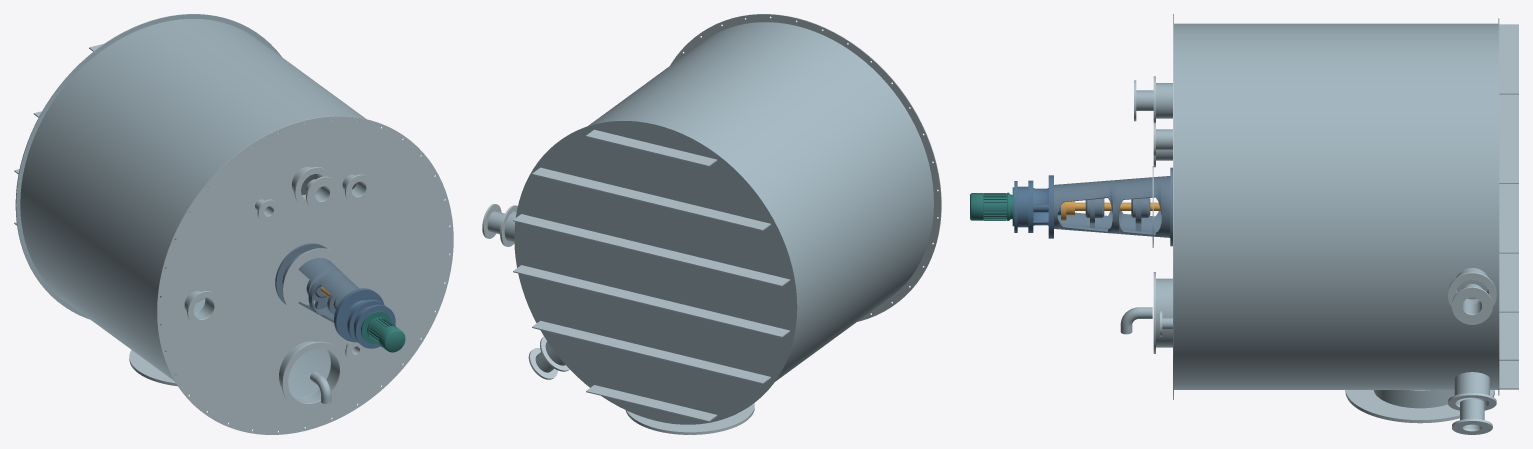
3 renders of one model, left to right at view 1: azimuth 30°, elevation 25°; view 2: azimuth 150°, elevation 25°; view 3: azimuth 270°, elevation 25°, orthographic. The views are drawn at different scales.
Visible parts, largest first — view 1: 盖面_开孔盖板, 本体_钢壳, 本体_底板, 搅拌_06_Tapered_window_frame_with_bored_seats, 盖面_h1盖, 接口_h1法兰, 搅拌_01_Motor, 搅拌_02_Base_flange_top, 接口_h1接管, 接口_a内接管法兰, 接口_h2法兰, 搅拌_06_Frame_foot (+4 smaller); view 2: 本体_底板, 本体_钢壳, 盖面_开孔盖板, 设备底型钢_4, 设备底型钢_3, 设备底型钢_5, 设备底型钢_2, 接口_h2法兰, 设备底型钢_1, 设备底型钢_6; view 3: 本体_钢壳, 搅拌_06_Tapered_window_frame_with_bored_seats, 接口_h2法兰, 设备底型钢_5, 设备底型钢_6, 设备底型钢_4, 接口_h2接管, 设备底型钢_3, 搅拌_01_Motor, 接口_b1法兰, 接口_h1接管, 设备底型钢_2 (+7 smaller).
Boxes of the visible parts, x1,y1,x2,y2 form: 盖面_开孔盖板: (156, 116, 453, 434); 本体_钢壳: (20, 19, 366, 397); 本体_底板: (15, 14, 281, 319); 搅拌_06_Tapered_window_frame_with_bored_seats: (282, 251, 358, 322); 盖面_h1盖: (282, 248, 345, 316); 接口_h1法兰: (281, 341, 345, 409); 搅拌_01_Motor: (361, 311, 405, 352); 搅拌_02_Base_flange_top: (335, 289, 384, 342); 接口_h1接管: (279, 341, 338, 403); 接口_a内接管法兰: (306, 176, 338, 210); 接口_h2法兰: (129, 350, 176, 385); 搅拌_06_Frame_foot: (275, 243, 327, 304); 本体_底板: (514, 120, 797, 424); 本体_钢壳: (588, 22, 933, 381); 盖面_开孔盖板: (670, 14, 941, 321); 设备底型钢_4: (513, 214, 790, 286); 设备底型钢_3: (513, 265, 790, 337); 设备底型钢_5: (532, 167, 770, 230); 设备底型钢_2: (532, 320, 770, 383); 接口_h2法兰: (626, 403, 754, 433); 设备底型钢_1: (586, 385, 717, 421); 设备底型钢_6: (586, 129, 717, 166); 本体_钢壳: (1174, 23, 1498, 389); 搅拌_06_Tapered_window_frame_with_bored_seats: (1054, 176, 1170, 237); 接口_h2法兰: (1345, 390, 1494, 422); 设备底型钢_5: (1499, 94, 1518, 183); 设备底型钢_6: (1499, 24, 1518, 94); 设备底型钢_4: (1499, 184, 1518, 253); 接口_h2接管: (1373, 390, 1454, 408); 设备底型钢_3: (1499, 253, 1518, 312); 搅拌_01_Motor: (970, 187, 1014, 226); 接口_b1法兰: (1452, 286, 1492, 324); 接口_h1接管: (1156, 278, 1172, 347); 设备底型钢_2: (1499, 312, 1518, 360).
Size of the model in its own units: 3.29 by 3.09 by 4.22.
